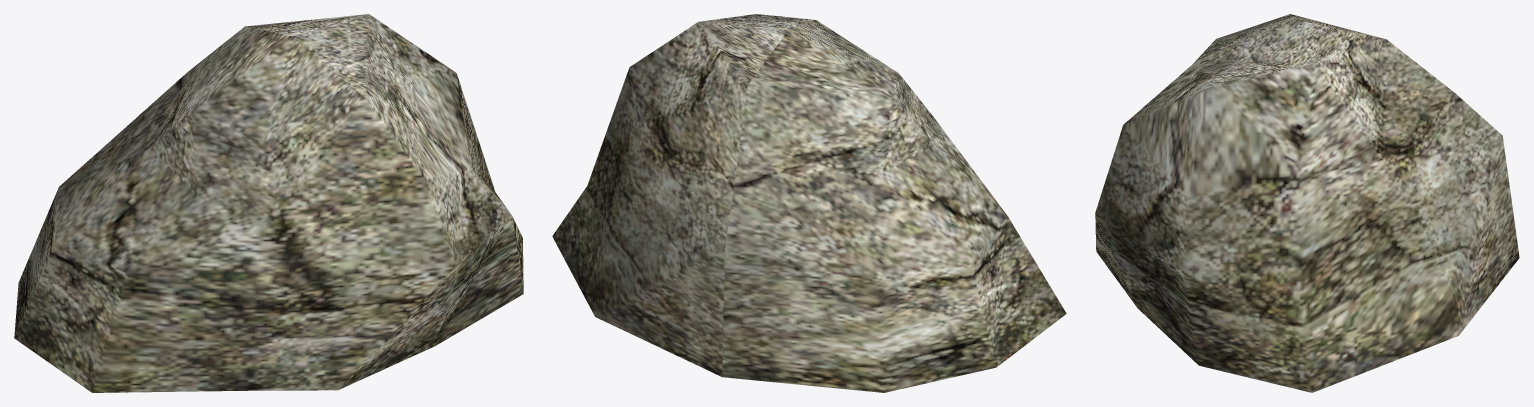
Rendered from general_obj_stone03.fbx.
3 renders of one model, left to right at view 1: azimuth 30°, elevation 25°; view 2: azimuth 150°, elevation 25°; view 3: azimuth 270°, elevation 25°, orthographic. The views are drawn at different scales.
Visible parts, largest first — view 1: Sphere01; view 2: Sphere01; view 3: Sphere01.
Part boxes in pixels (x1,y1,x2,y2): Sphere01: (14,14,523,392); Sphere01: (552,14,1066,392); Sphere01: (1095,14,1519,392).
Size of the model in its own units: 2.67 by 1.39 by 2.06.
